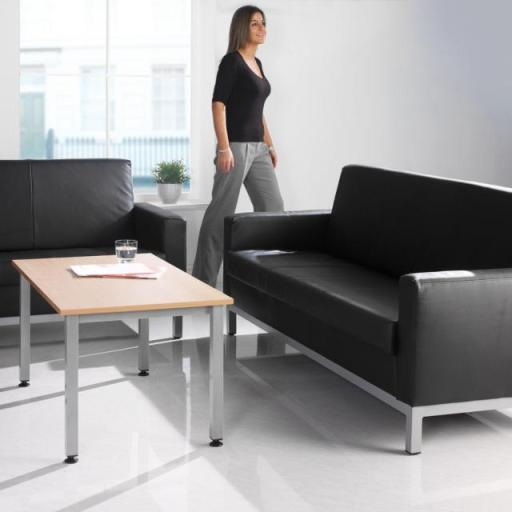sofa: (218, 134, 512, 464), (16, 127, 199, 370)
